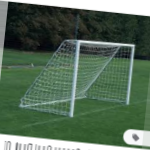goals: (20, 37, 136, 120)
